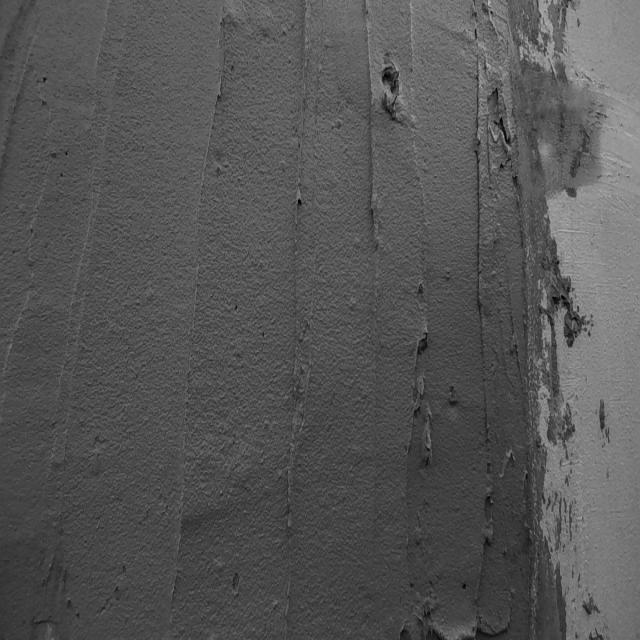trowels marks: (284, 10, 310, 626), (188, 48, 225, 327), (472, 44, 492, 528)
